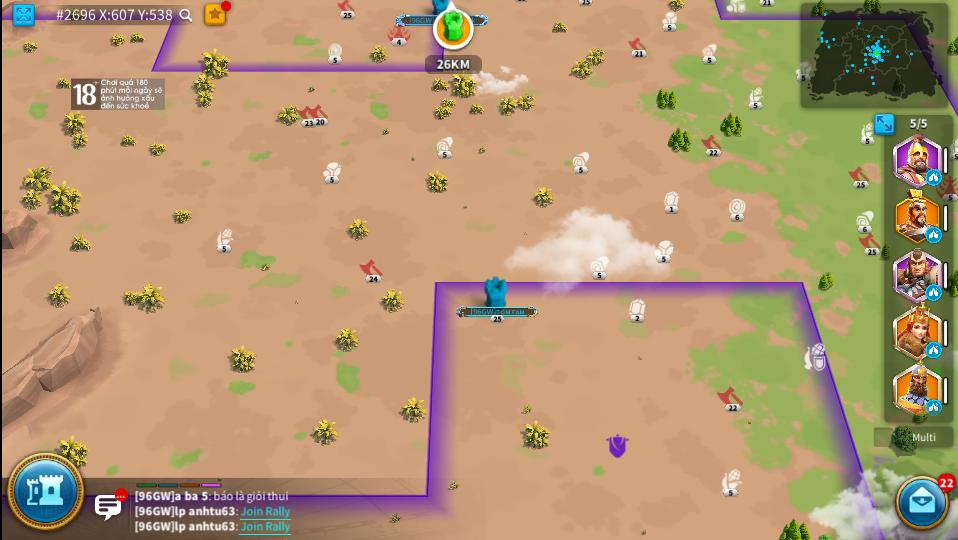gem-z-out: (628, 300, 644, 324), (663, 192, 680, 214)
march_idle: (925, 228, 942, 242), (926, 170, 940, 185), (927, 400, 941, 415), (926, 285, 940, 299), (928, 343, 940, 357)
